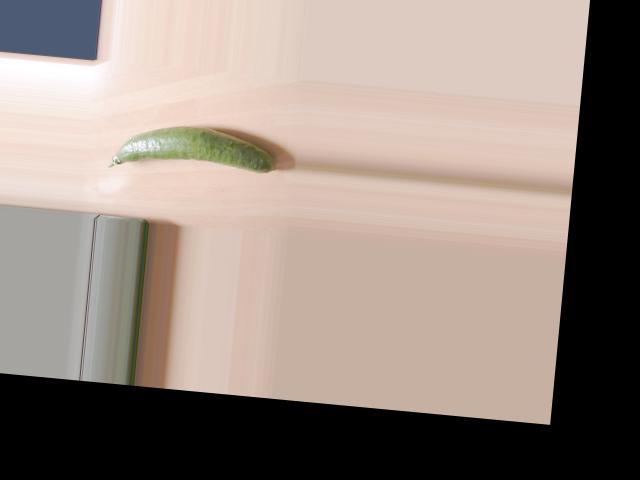cucumber: (107, 117, 280, 182)
